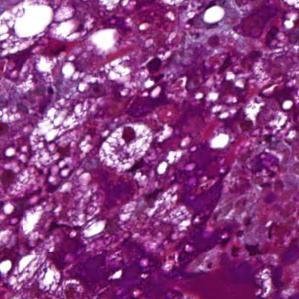ballooning: (98, 119, 157, 172), (4, 3, 55, 60)
